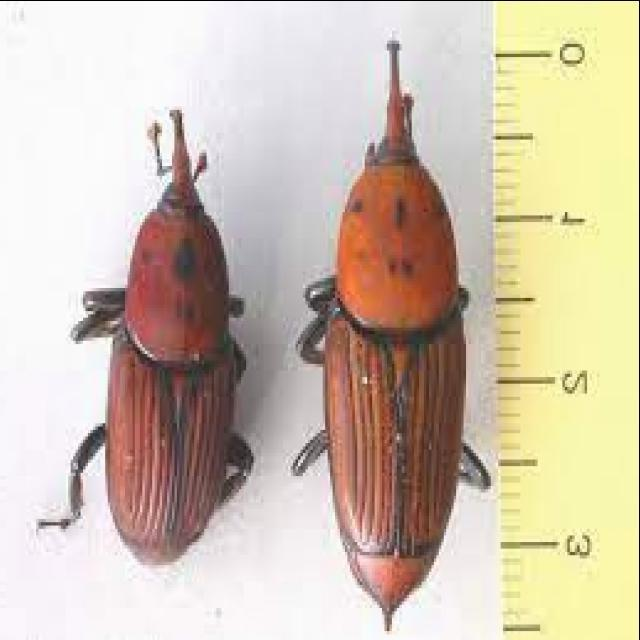Red-palm-weevil: (317, 39, 470, 637), (98, 102, 244, 574)
